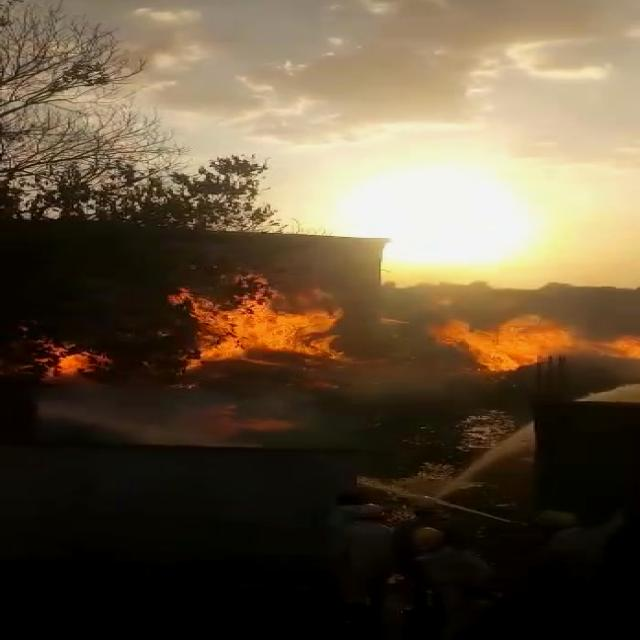firerotation: (160, 268, 358, 370), (421, 310, 640, 374), (24, 330, 110, 378)
